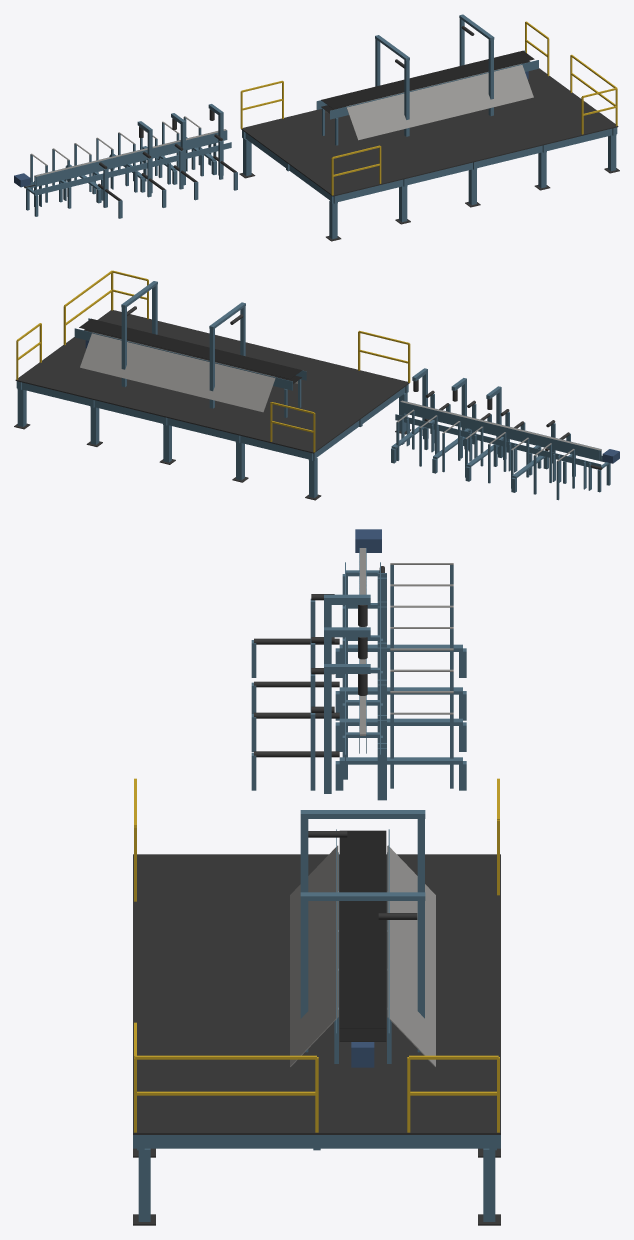
The model's file is board_edger_frame.glb.
3 views of the same model, one above another, from view 1: azimuth 30°, elevation 25°; view 2: azimuth 150°, elevation 25°; view 3: azimuth 270°, elevation 25° (orthographic). The views are drawn at different scales.
Visible parts, largest first — view 1: ED_FrameMesh; view 2: ED_FrameMesh; view 3: ED_FrameMesh.
Boxes of the visible parts, <box> form: ED_FrameMesh: <box>14,14,619,241</box>; ED_FrameMesh: <box>14,270,619,500</box>; ED_FrameMesh: <box>133,529,500,1225</box>.
Bounding box in the file's own units: 16.39 × 3.56 × 4.8.
